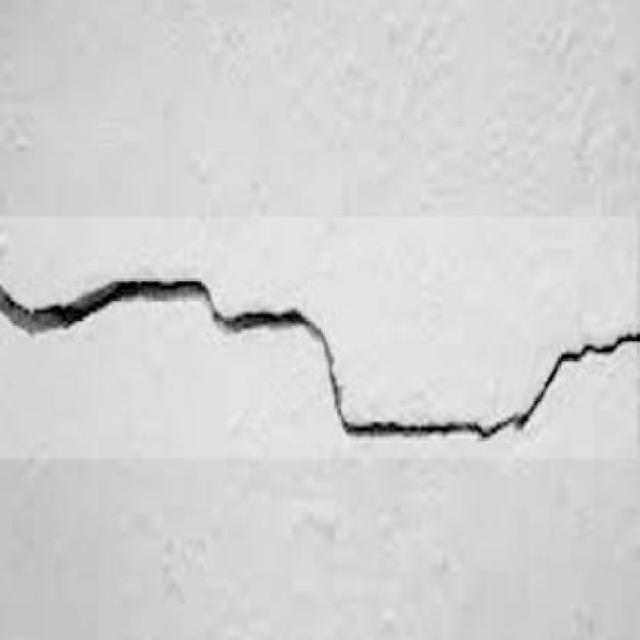Crack: (0, 218, 640, 444)
